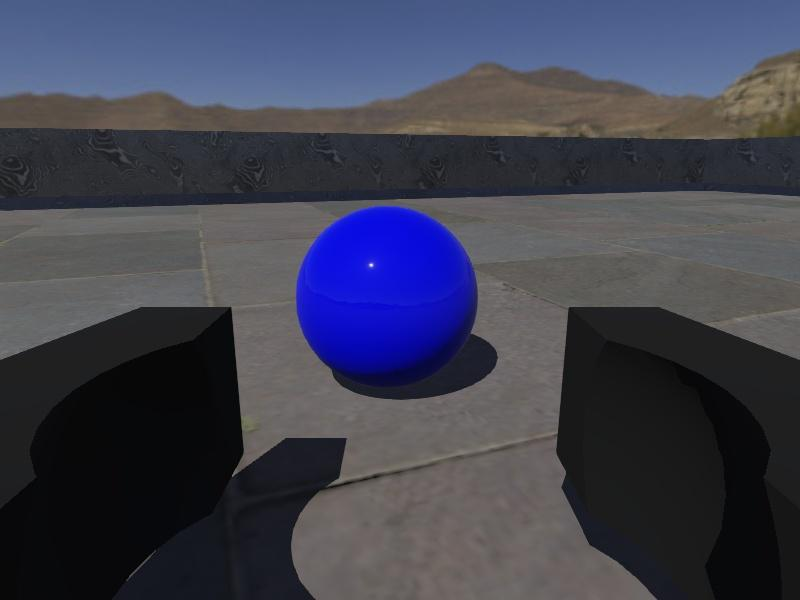blue ball: (295, 205, 479, 388)
